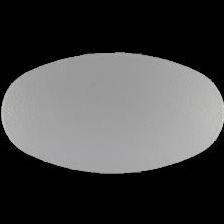68382-652: (0, 0, 224, 224)
